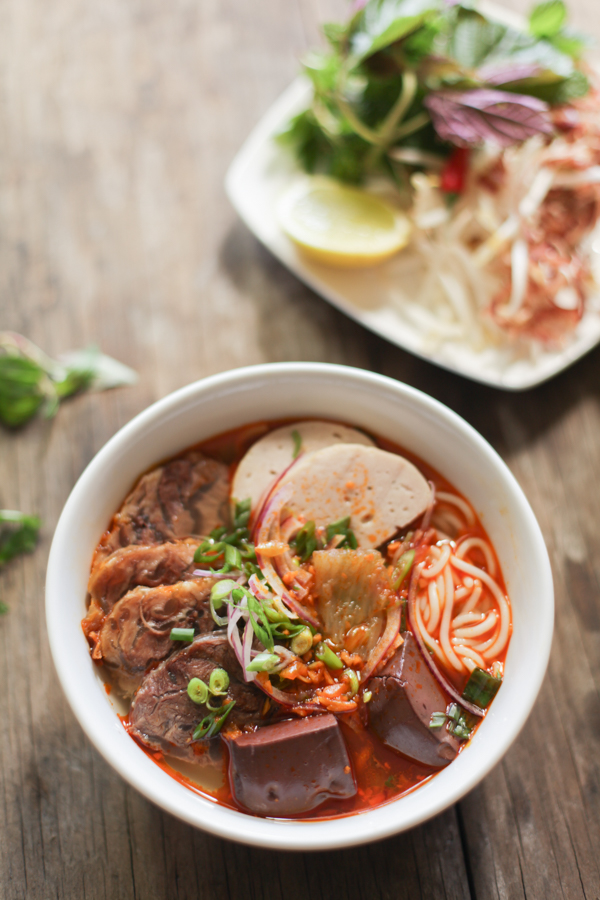beef: (119, 637, 257, 742), (95, 581, 251, 673), (111, 446, 241, 552), (91, 541, 205, 599)
chamoc: (222, 418, 439, 559)
